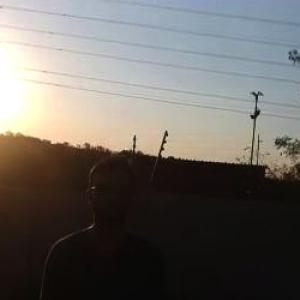follow: (31, 145, 179, 299)
